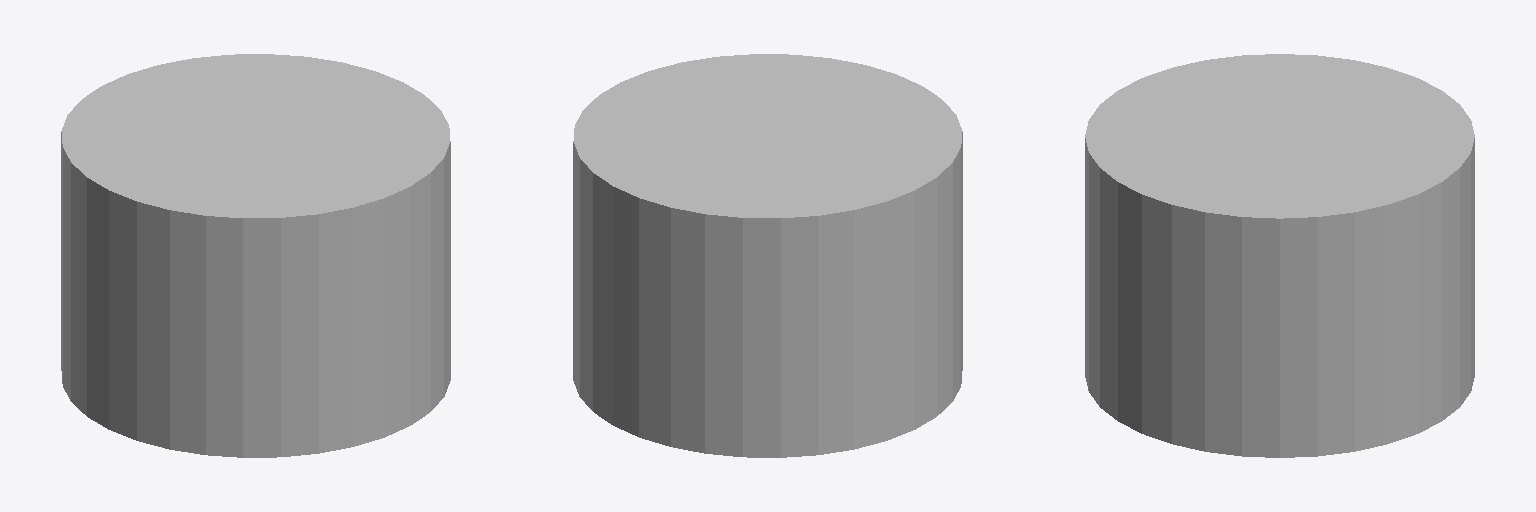
File: velo_collision.obj
3 renders of one model, left to right at view 1: azimuth 30°, elevation 25°; view 2: azimuth 150°, elevation 25°; view 3: azimuth 270°, elevation 25°, orthographic.
Visible parts, largest first — view 1: velo_collision, Velo_Entire_Platform—Spot,_VERI17.729; view 2: velo_collision, Velo_Entire_Platform—Spot,_VERI17.729; view 3: velo_collision, Velo_Entire_Platform—Spot,_VERI17.729.
Part boxes in pixels (x1,y1,x2,y2): velo_collision: (61, 54, 450, 457); Velo_Entire_Platform—Spot,_VERI17.729: (113, 76, 397, 195); velo_collision: (573, 54, 962, 457); Velo_Entire_Platform—Spot,_VERI17.729: (626, 76, 894, 195); velo_collision: (1085, 54, 1474, 457); Velo_Entire_Platform—Spot,_VERI17.729: (1140, 77, 1419, 189).
Bounding box in the file's own units: 0.1268 × 0.0859 × 0.1268.